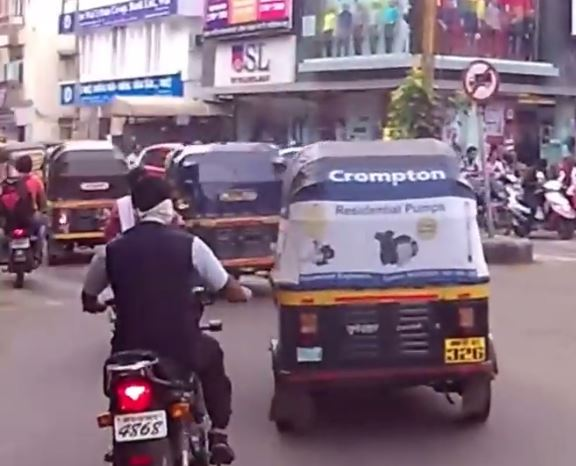autorickshaw: (263, 133, 504, 447), (158, 135, 292, 288), (35, 134, 139, 267)
